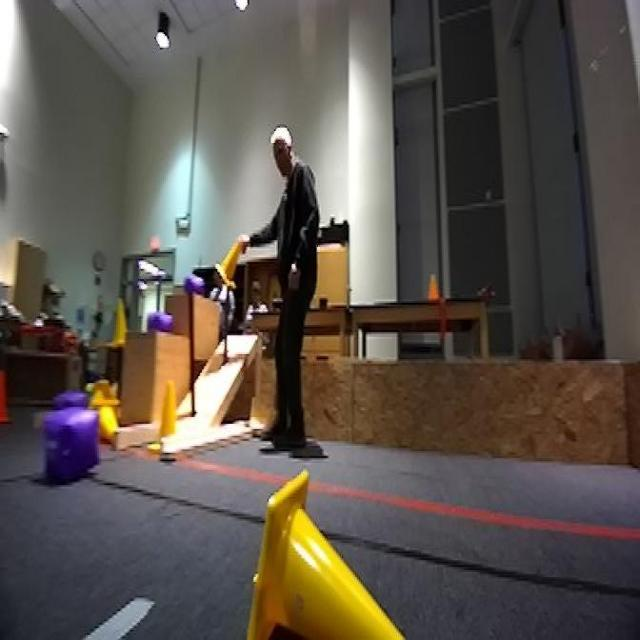frc_cone: (247, 455, 439, 633), (150, 380, 180, 451), (212, 240, 248, 289), (106, 300, 132, 352), (99, 395, 122, 439), (88, 374, 118, 402)
frc_cube: (46, 409, 99, 490), (147, 306, 177, 331), (53, 391, 86, 412), (179, 272, 205, 296)
